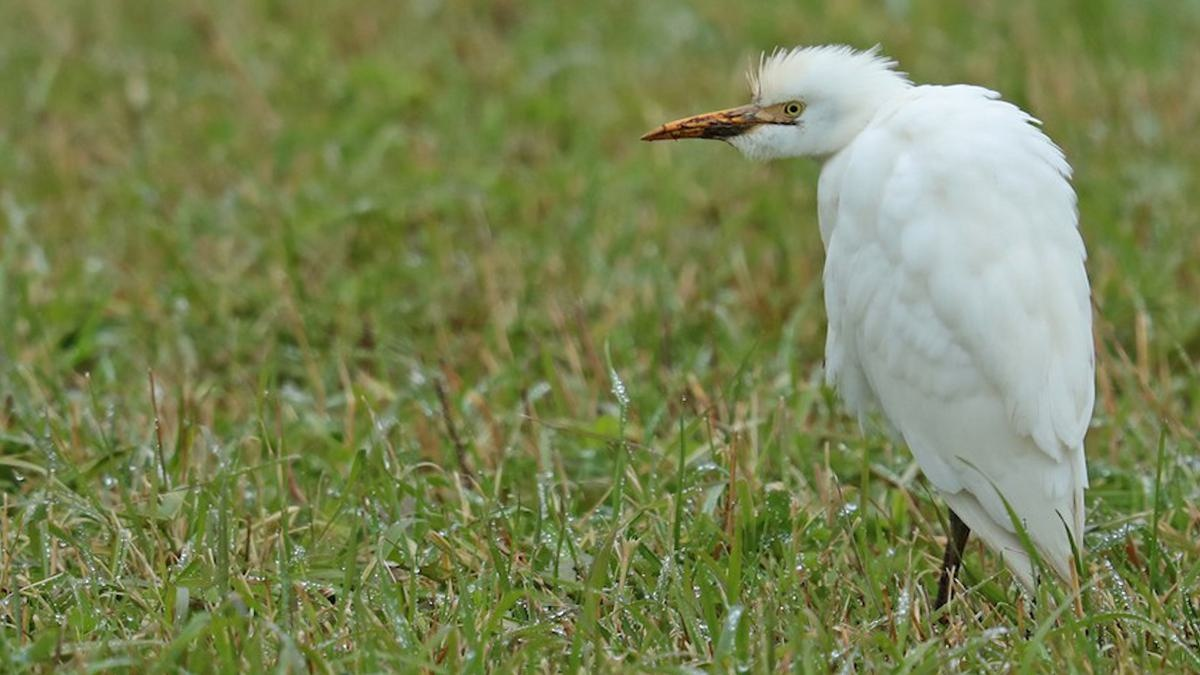egret: (641, 30, 1117, 606)
